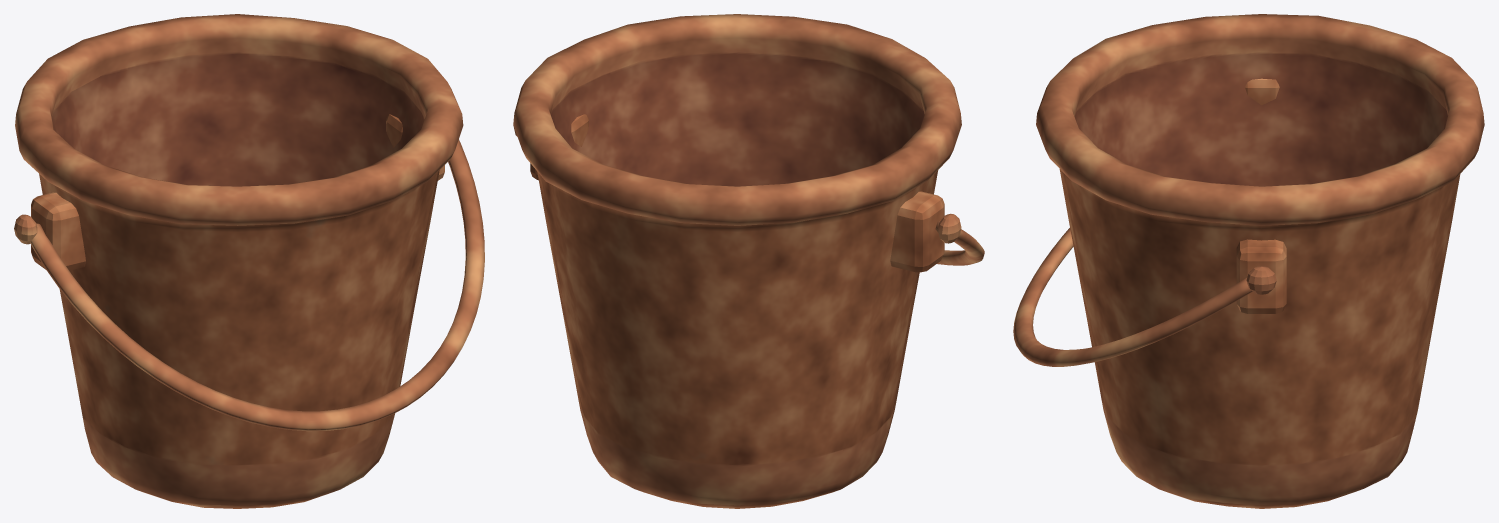
File: Balde_de_Cobre_Vazio_Jogo_1K.glb
The picture shows the model from 3 angles, left to right: view 1: azimuth 30°, elevation 25°; view 2: azimuth 150°, elevation 25°; view 3: azimuth 270°, elevation 25°; orthographic projection.
Visible parts, largest first — view 1: Corpo de cobre, Alça de cobre; view 2: Corpo de cobre, Alça de cobre; view 3: Corpo de cobre, Alça de cobre.
Boxes of the visible parts, x1,y1,x2,y2 form: Corpo de cobre: [14, 14, 463, 508]; Alça de cobre: [30, 139, 484, 431]; Corpo de cobre: [513, 14, 961, 508]; Alça de cobre: [935, 220, 984, 265]; Corpo de cobre: [1036, 14, 1484, 508]; Alça de cobre: [1013, 228, 1252, 366].
Size of the model in its own units: 0.472 by 0.358 by 0.4349.
Materials: 1 (1 with a texture image).
